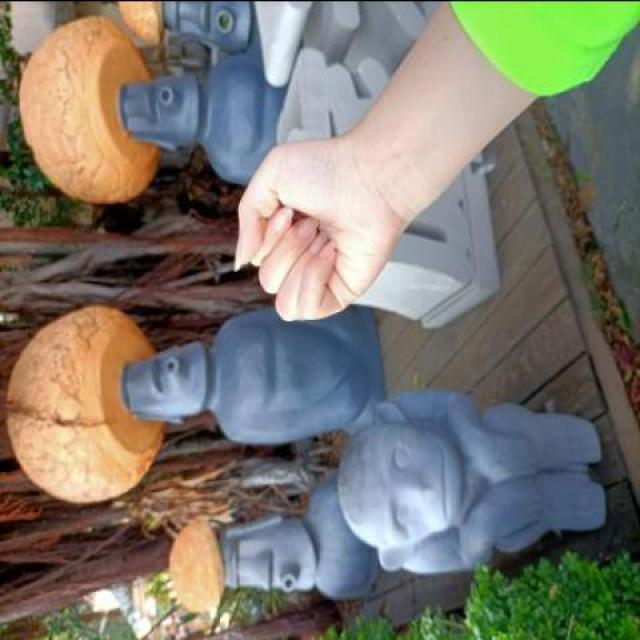fist: (233, 125, 403, 343)
